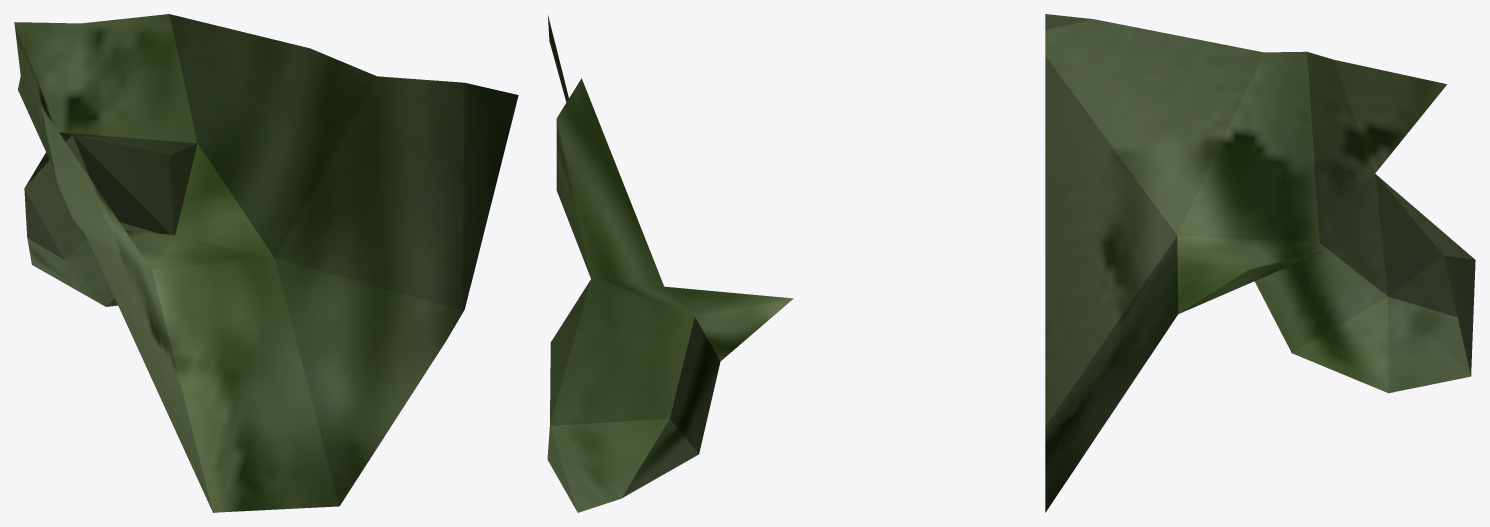
3 views of the same model, side by side, from view 1: azimuth 30°, elevation 25°; view 2: azimuth 150°, elevation 25°; view 3: azimuth 270°, elevation 25° (orthographic). The views are drawn at different scales.
Bounding box in the file's own units: 0.5733 × 0.4502 × 0.477.
1 material, 1 textured.
